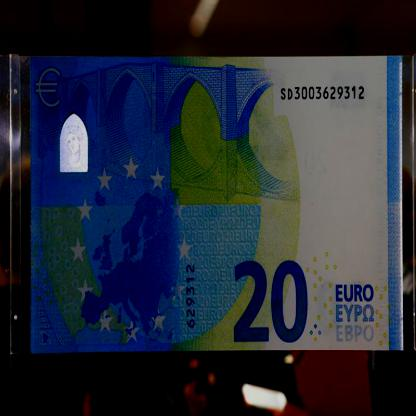euro_banknote: (32, 56, 403, 352)
